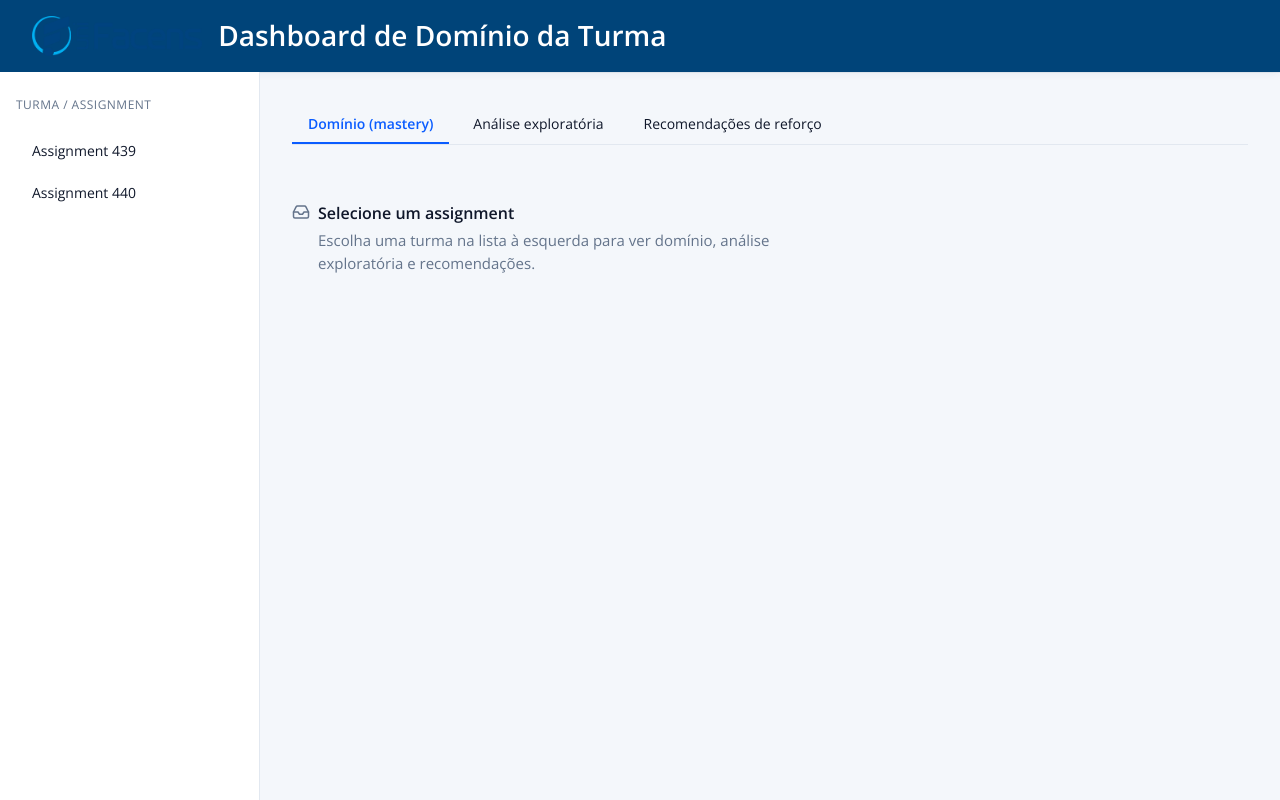
Test case: App shell › selecting a trained assignment shows the mastery tab with the always-visible uncertainty frame
Click the button "Assignment 439": (130, 150) [16,130,243,170]
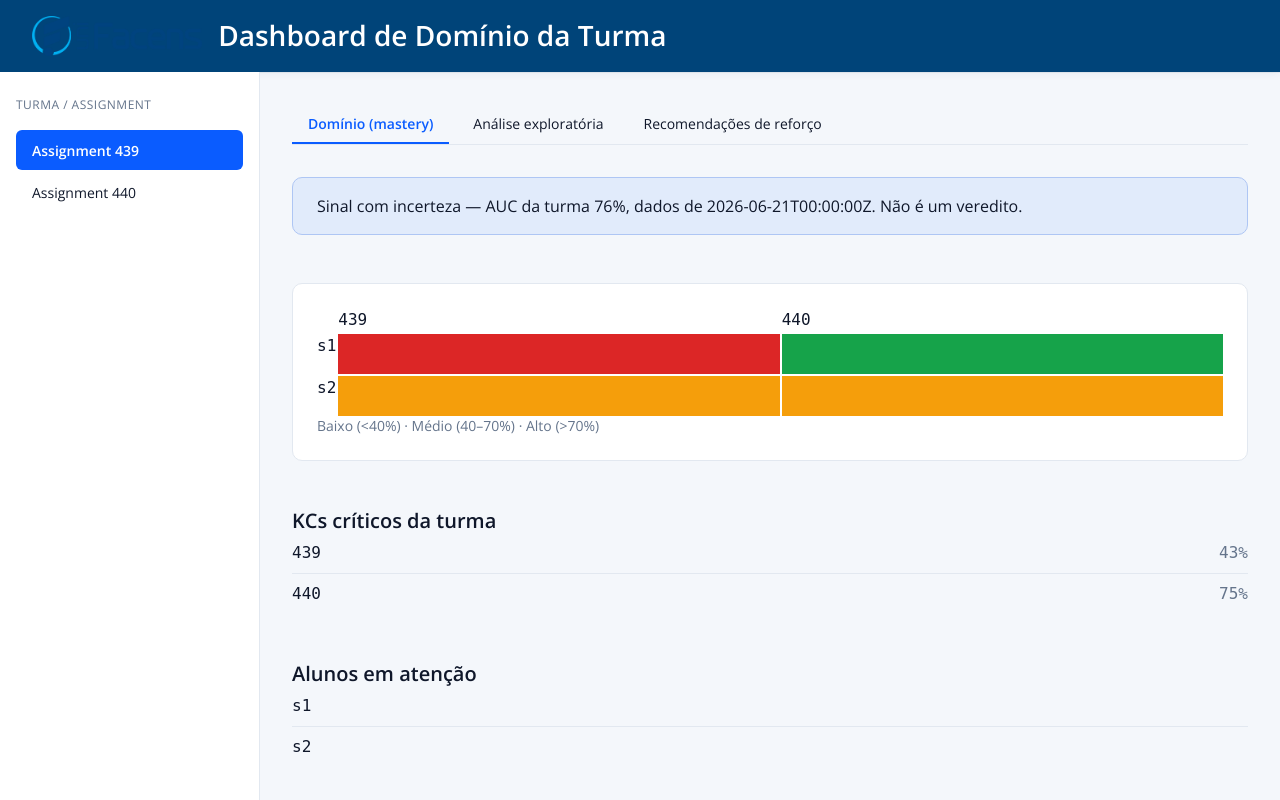
Expected: the element that starts with "Sinal com incerteza — AUC da turma" shows "AUC da turma 76%", [292,177,1248,235]
Expected: the element that starts with "Sinal com incerteza — AUC da turma" shows "Não é um veredito.", [872,195,1022,217]
